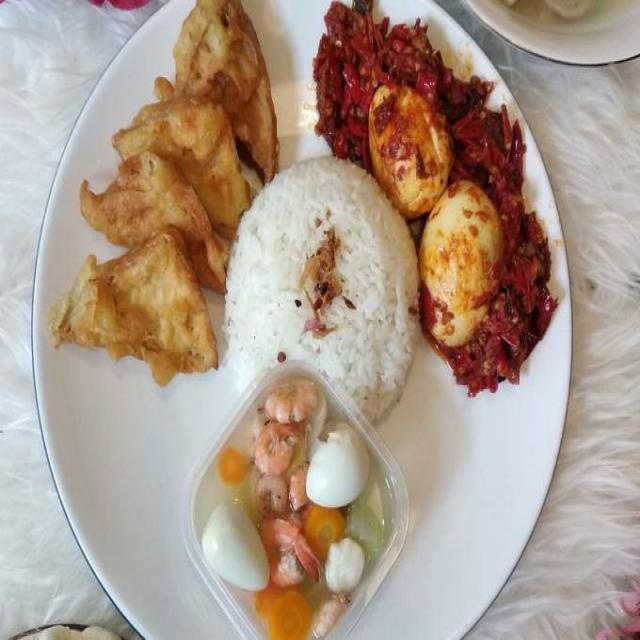nasi: (221, 161, 416, 432)
telur balado: (357, 0, 557, 395)
